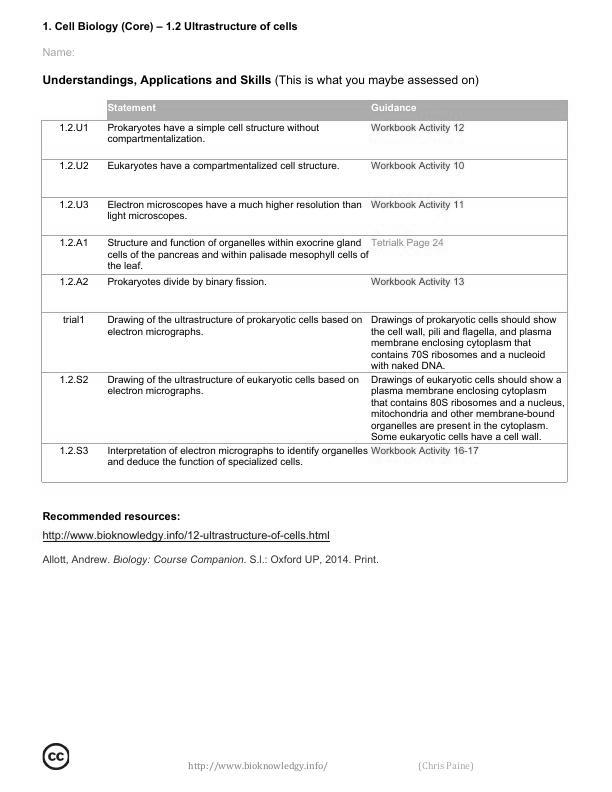table: (33, 97, 573, 489)
text: (36, 507, 386, 574), (40, 67, 484, 90), (35, 12, 304, 42), (40, 44, 81, 60)
